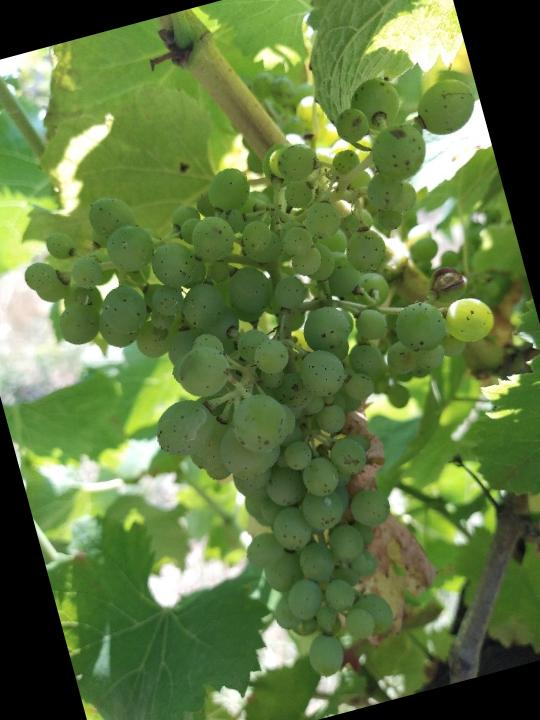grape: (0, 54, 540, 720)
